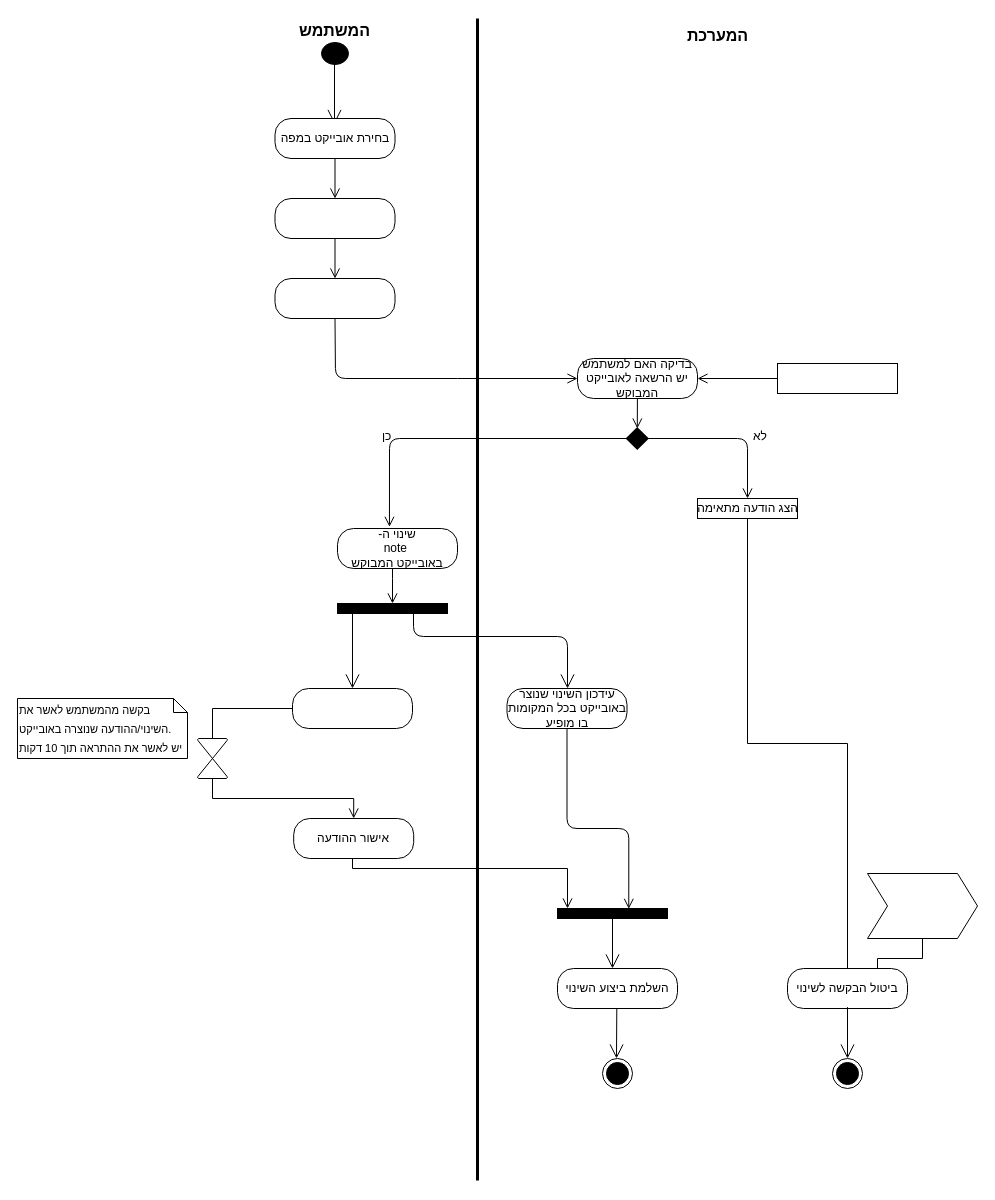
The diagram is 995 pixels wide and 1200 high, and some of its shapes have lost their labels. The shapes that lost their labels are listed below. From the top down, each one's centre as x and y in pixels, then its label:
the point at 334,218: בחירת איוונט מבין רשימת האיוונטים הקשורים באובייקט
the point at 334,298: בקשה לעריכת הנמצא Note באיוונט
the point at 837,378: «datastore» בדיקת הרשאות באיוונט
the point at 352,708: קבלת התראה באובייקטים המתאימים על השינוי שנוצר
the point at 922,905: לא התקבל - אישור בטל בקשה
